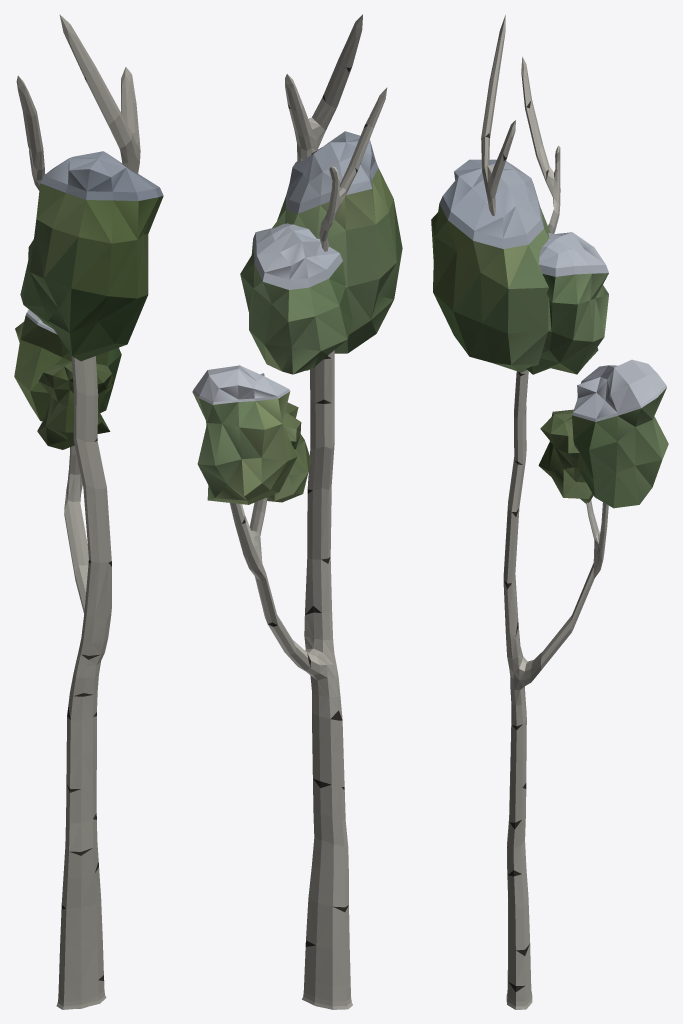
The model's file is Birch_Tree_Snow.glb.
The picture shows the model from 3 angles, left to right: view 1: azimuth 30°, elevation 25°; view 2: azimuth 150°, elevation 25°; view 3: azimuth 270°, elevation 25°; orthographic projection. The views are drawn at different scales.
Visible parts, largest first — view 1: BirchTree_Snow_5; view 2: BirchTree_Snow_5; view 3: BirchTree_Snow_5.
Boxes of the visible parts, bbox=[...] form: BirchTree_Snow_5: bbox=[14, 14, 163, 1009]; BirchTree_Snow_5: bbox=[192, 14, 402, 1009]; BirchTree_Snow_5: bbox=[431, 15, 668, 1009].
Size of the model in its own units: 1.26 by 8.74 by 1.93.
